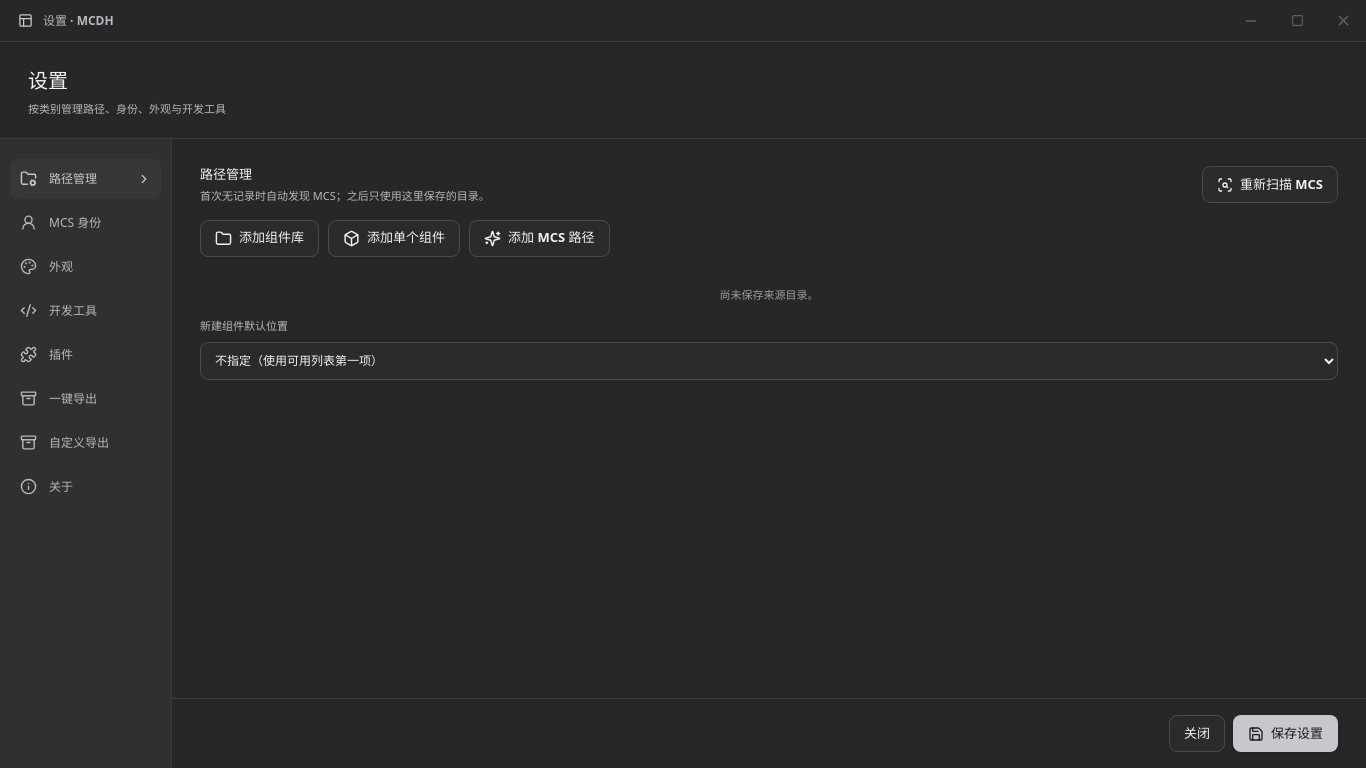
Test case: standalone dialog application › keeps plugin management open when the main window is unavailable
Click the button "插件" at (86, 354), box [10,334,161,374]
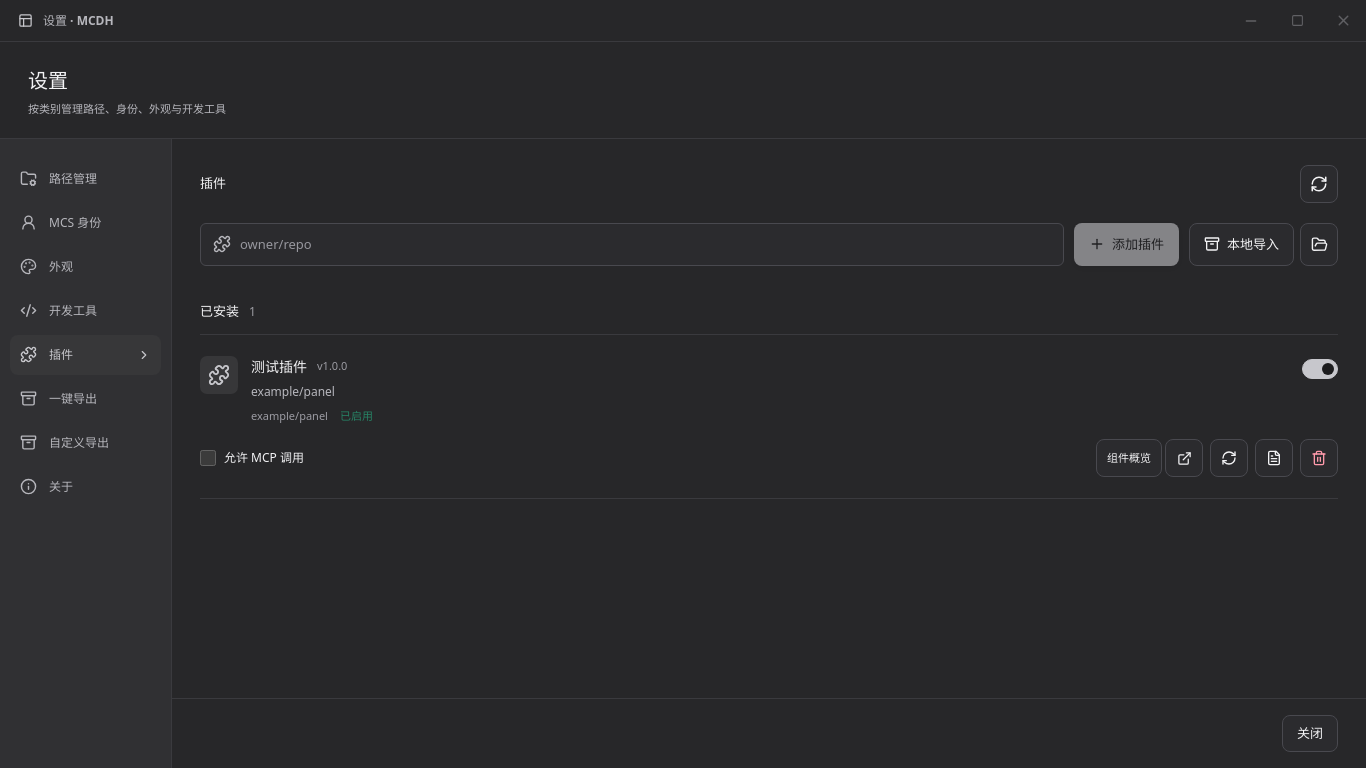
Click the button "组件概览" at (1129, 458), box [1096,439,1162,477]
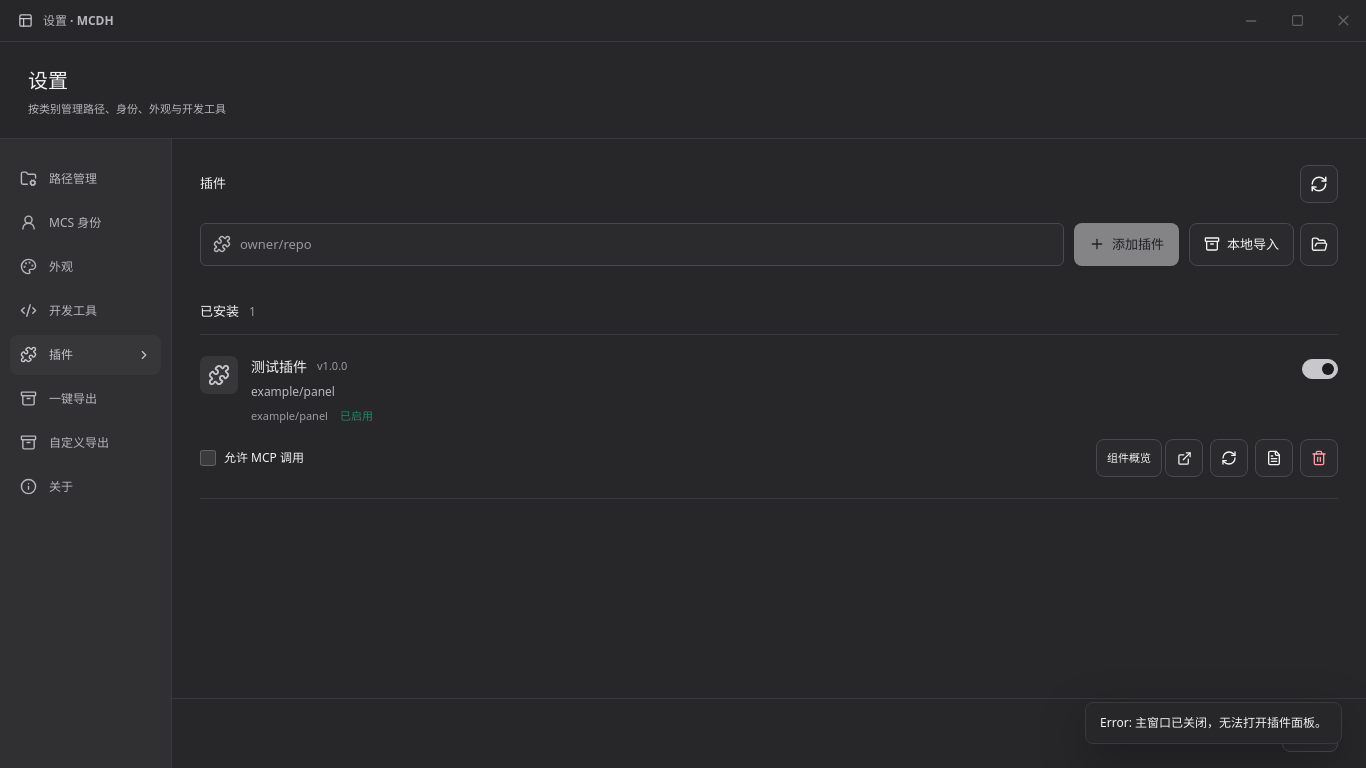
Expected: the text "Error: 主窗口已关闭，无法打开插件面板。" is shown, [1085,702,1342,744]
